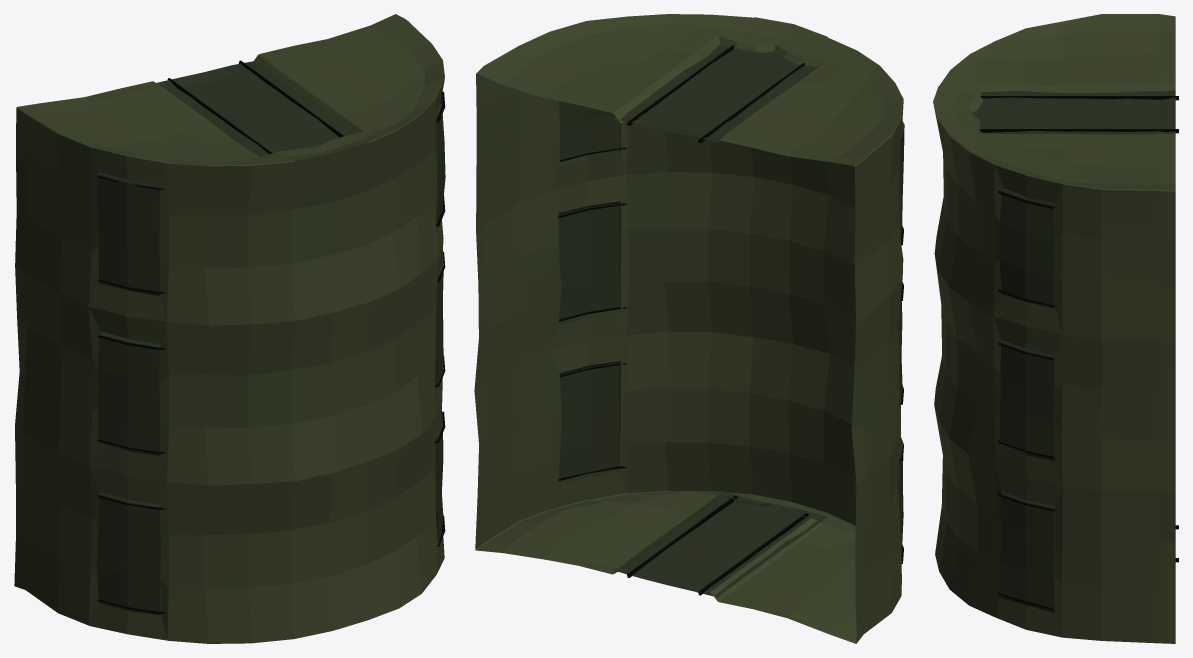
File: Tent.glb
The picture shows the model from 3 angles, left to right: view 1: azimuth 30°, elevation 25°; view 2: azimuth 150°, elevation 25°; view 3: azimuth 270°, elevation 25°; orthographic projection. The views are drawn at different scales.
Visible parts, largest first — view 1: Tent; view 2: Tent; view 3: Tent.
Part boxes in pixels (x1=…): Tent: x1=14, y1=14, x2=445, y2=643; Tent: x1=474, y1=14, x2=904, y2=643; Tent: x1=933, y1=14, x2=1178, y2=643.
Bounding box in the file's own units: 5.02 × 6.03 × 2.95.
Materials: 1 (1 with a texture image).
